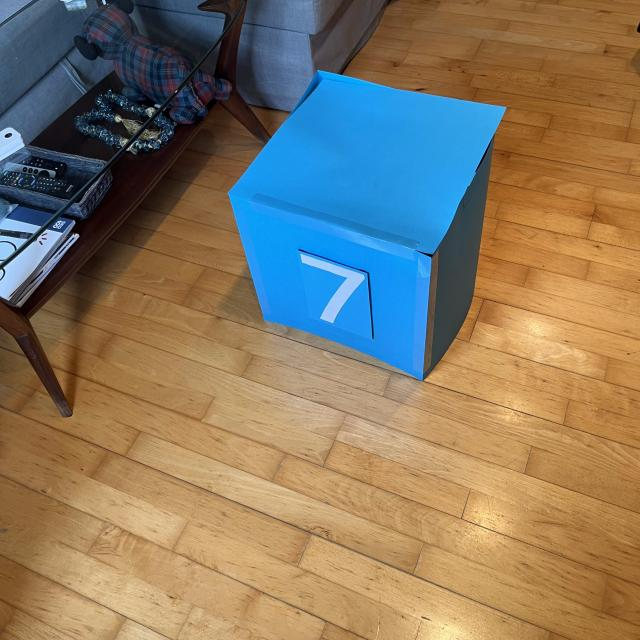box: (225, 67, 508, 382)
